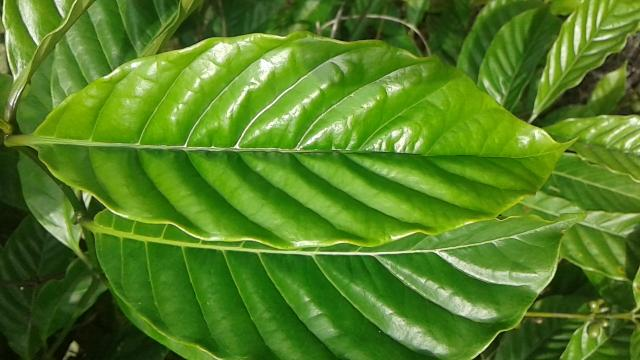healthy: (28, 26, 587, 256)
